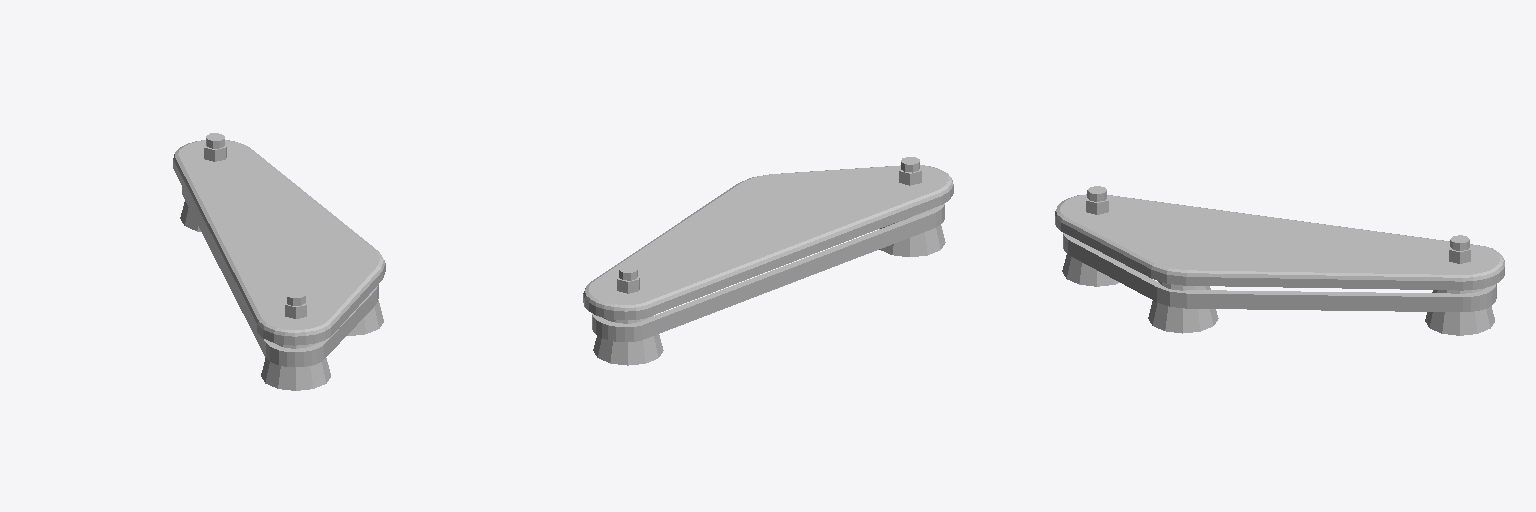
The model's file is RightLowerBumper.obj.
The picture shows the model from 3 angles: view 1: azimuth 30°, elevation 25°; view 2: azimuth 150°, elevation 25°; view 3: azimuth 270°, elevation 25°; orthographic projection.
Parts seen in each view (by area): view 1: MediumBumper.001_Untitled.001; view 2: MediumBumper.001_Untitled.001; view 3: MediumBumper.001_Untitled.001.
Boxes of the visible parts, <box> form: MediumBumper.001_Untitled.001: <box>173,133,385,390</box>; MediumBumper.001_Untitled.001: <box>583,157,953,365</box>; MediumBumper.001_Untitled.001: <box>1055,186,1504,335</box>.
Bounding box in the file's own units: 0.0898 × 0.0402 × 0.201.